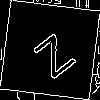Z: (25, 25, 77, 80)
